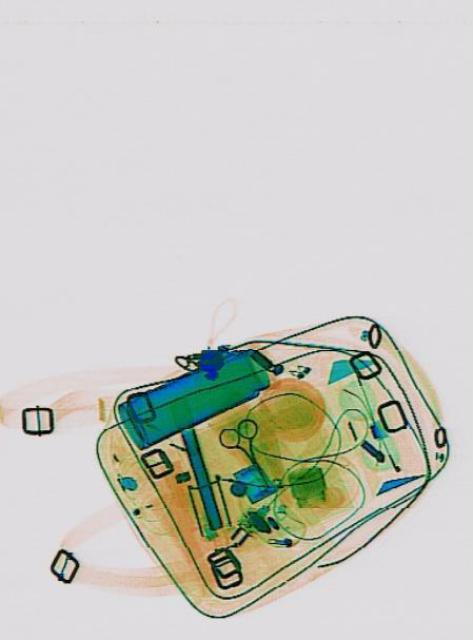Scissors: (216, 408, 281, 502)
